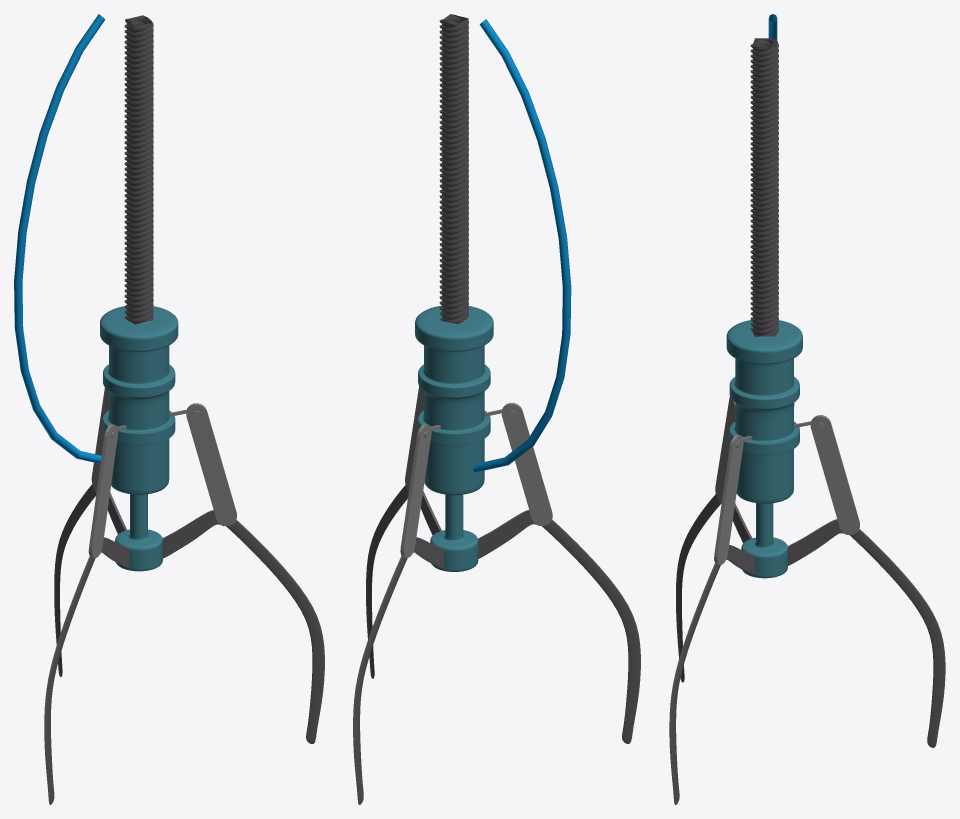
File: grabber.fbx
3 renders of one model, left to right at view 1: azimuth 30°, elevation 25°; view 2: azimuth 150°, elevation 25°; view 3: azimuth 270°, elevation 25°, orthographic. The views are drawn at different scales.
Visible parts, largest first — view 1: Body, Screw, Claws, Arms, Tube; view 2: Body, Screw, Claws, Arms, Tube; view 3: Body, Screw, Claws, Arms.
Boxes of the visible parts, x1,y1,x2,y2 form: Body: (100, 306, 178, 571); Screw: (124, 15, 153, 324); Claws: (44, 484, 324, 804); Arms: (88, 388, 236, 557); Tube: (14, 14, 105, 463); Body: (415, 305, 493, 571); Screw: (439, 14, 468, 324); Claws: (353, 485, 640, 804); Arms: (400, 386, 552, 557); Tube: (473, 19, 571, 472); Body: (726, 320, 802, 578); Screw: (750, 38, 778, 336); Claws: (669, 494, 945, 804); Arms: (714, 397, 859, 564).
Bounding box in the file's own units: 525 × 1326 × 465.
